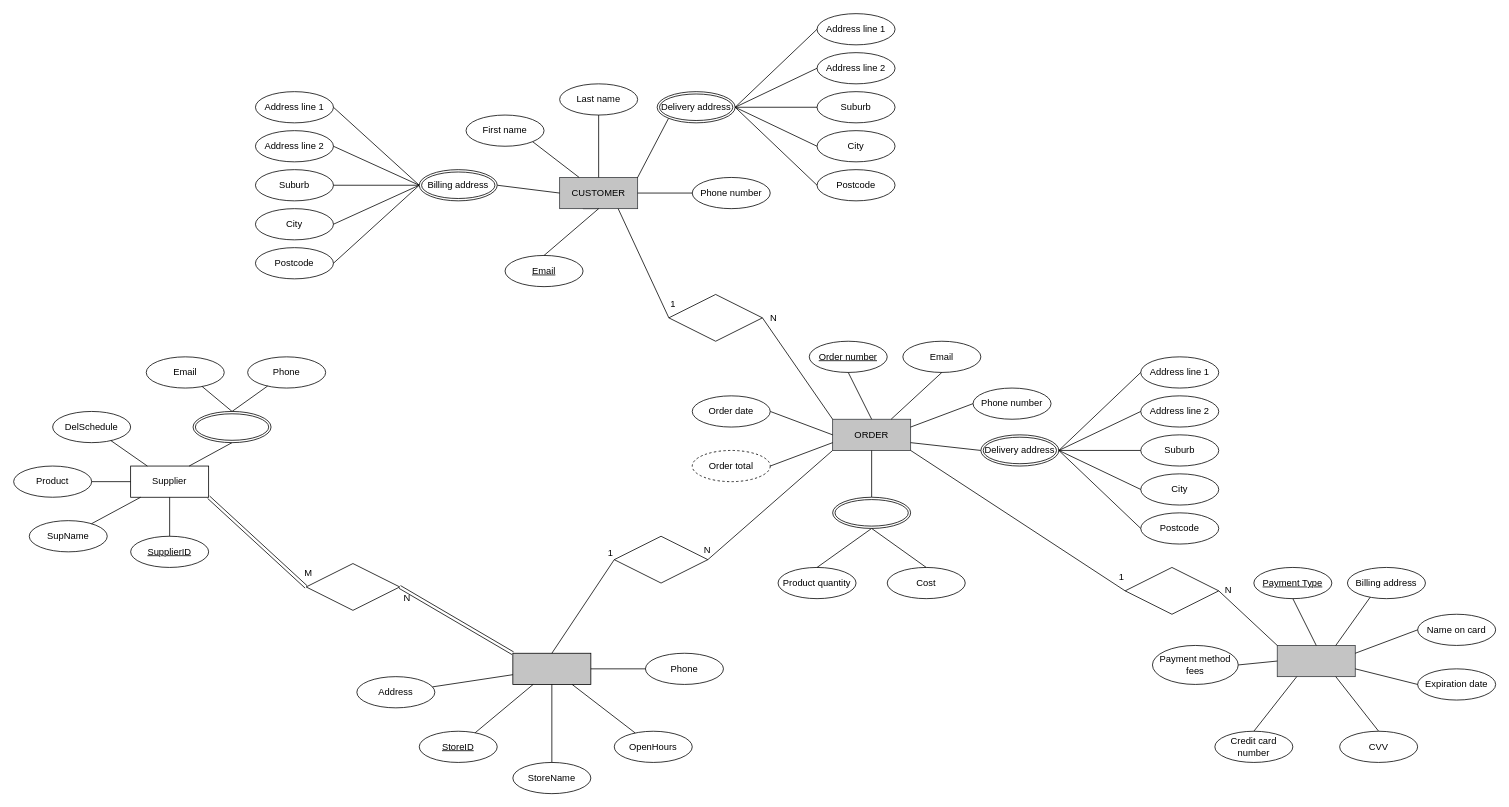
This 1509x807 diagram has some shape labels left out. The box of each missing label's shape, as (x1, y1, x2, y2) in pixels:
Contact: (192, 411, 271, 443)
FULFILLS: (613, 535, 708, 583)
INCLUDES: (1124, 567, 1219, 614)
PAYMENT METHOD: (1276, 645, 1355, 677)
PLACES: (668, 294, 762, 341)
Products: (832, 496, 911, 528)
STOCKS: (305, 563, 400, 610)
STORE: (512, 652, 591, 684)
